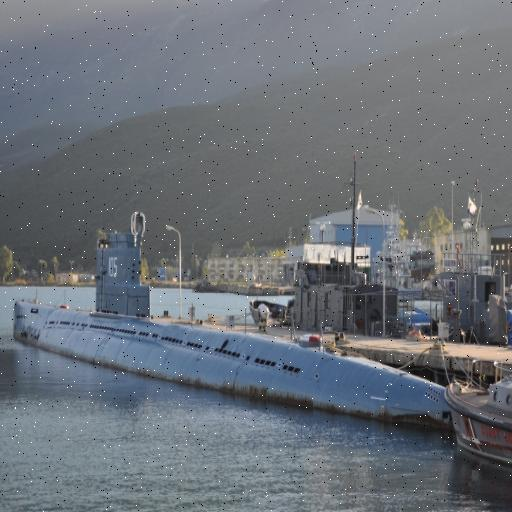submarine: (10, 228, 458, 436)
